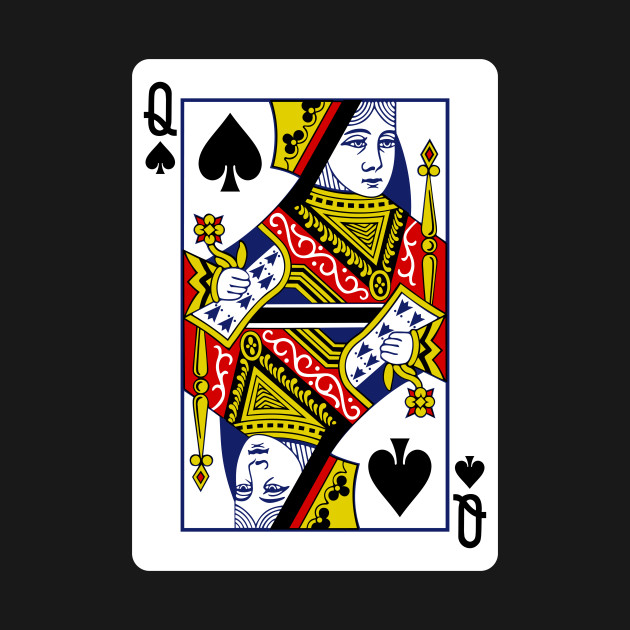queen of spades: (129, 59, 500, 575)
